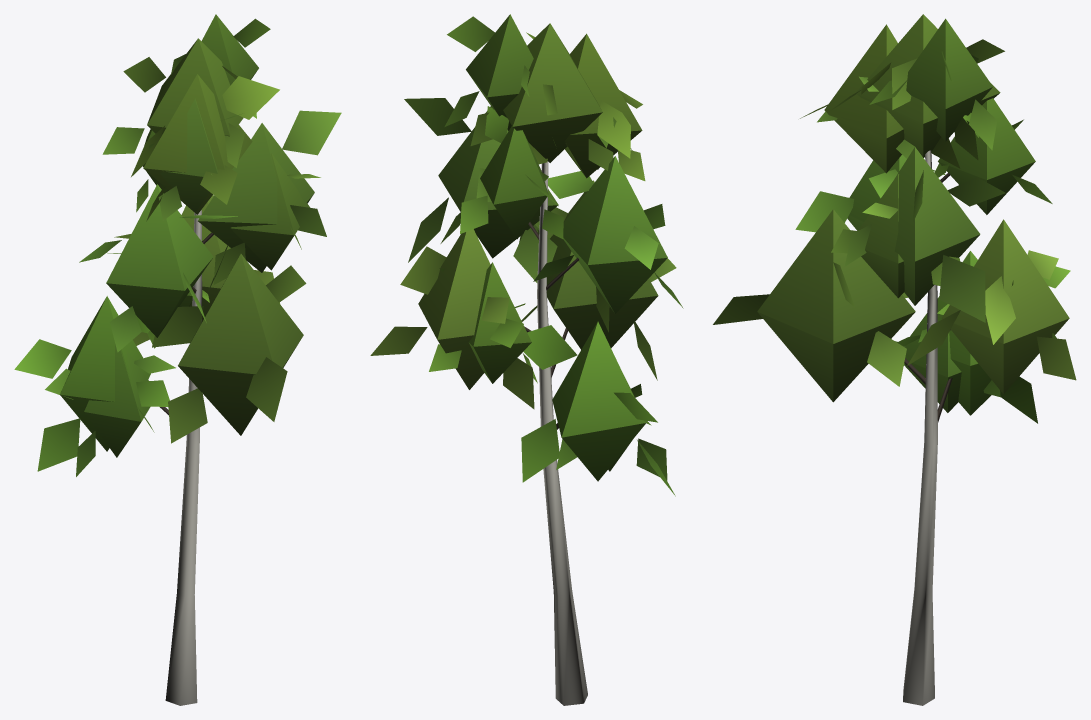
The model's file is birch_a_lod.glb.
3 renders of one model, left to right at view 1: azimuth 30°, elevation 25°; view 2: azimuth 150°, elevation 25°; view 3: azimuth 270°, elevation 25°, orthographic. The views are drawn at different scales.
Parts seen in each view (by area): view 1: birch_a_lod; view 2: birch_a_lod; view 3: birch_a_lod.
Part boxes in pixels (left/top/right/bottom): birch_a_lod: left=14, top=14, right=341, bottom=705; birch_a_lod: left=370, top=14, right=683, bottom=705; birch_a_lod: left=713, top=14, right=1076, bottom=705.
Bounding box in the file's own units: 3.86 × 8.54 × 4.
